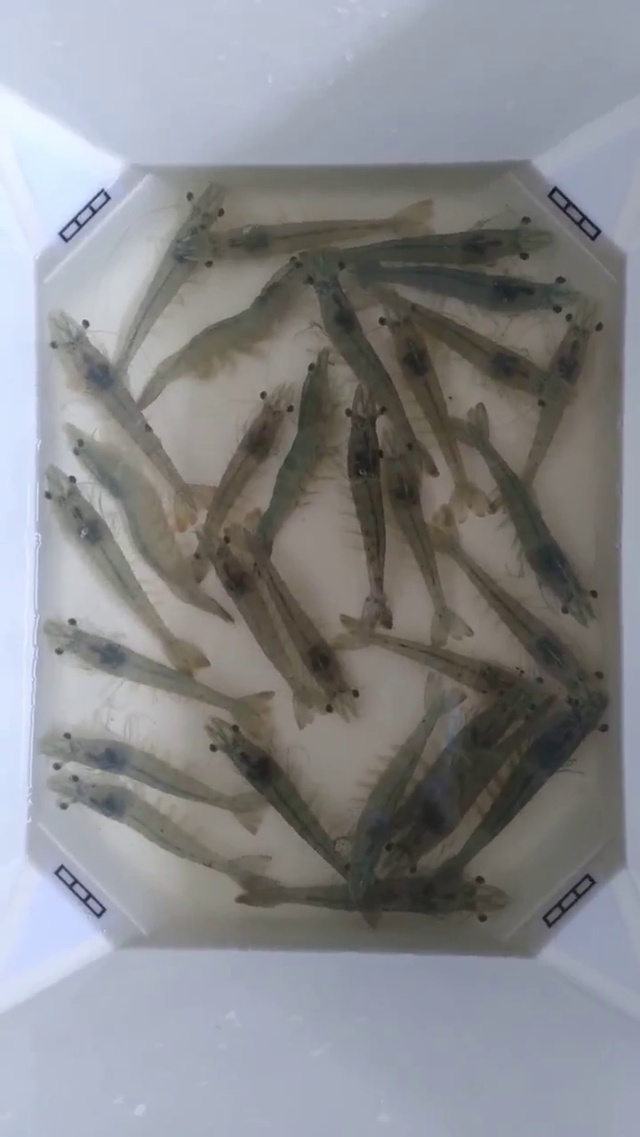shrimp: (539, 454, 639, 752), (322, 295, 437, 503), (558, 541, 639, 818), (325, 201, 436, 369), (37, 209, 138, 391), (51, 311, 166, 468), (33, 128, 143, 283), (83, 339, 188, 492), (459, 168, 566, 314), (258, 350, 334, 555), (153, 181, 268, 299), (0, 561, 64, 771), (139, 486, 233, 621), (165, 669, 273, 779), (45, 466, 135, 597), (520, 312, 588, 485), (528, 228, 599, 388), (429, 406, 499, 566), (140, 597, 237, 709), (430, 820, 514, 944), (0, 213, 37, 483), (50, 735, 153, 828), (395, 640, 516, 718), (43, 620, 177, 686), (317, 814, 390, 929), (227, 220, 353, 280), (0, 666, 33, 863), (330, 612, 390, 720)
